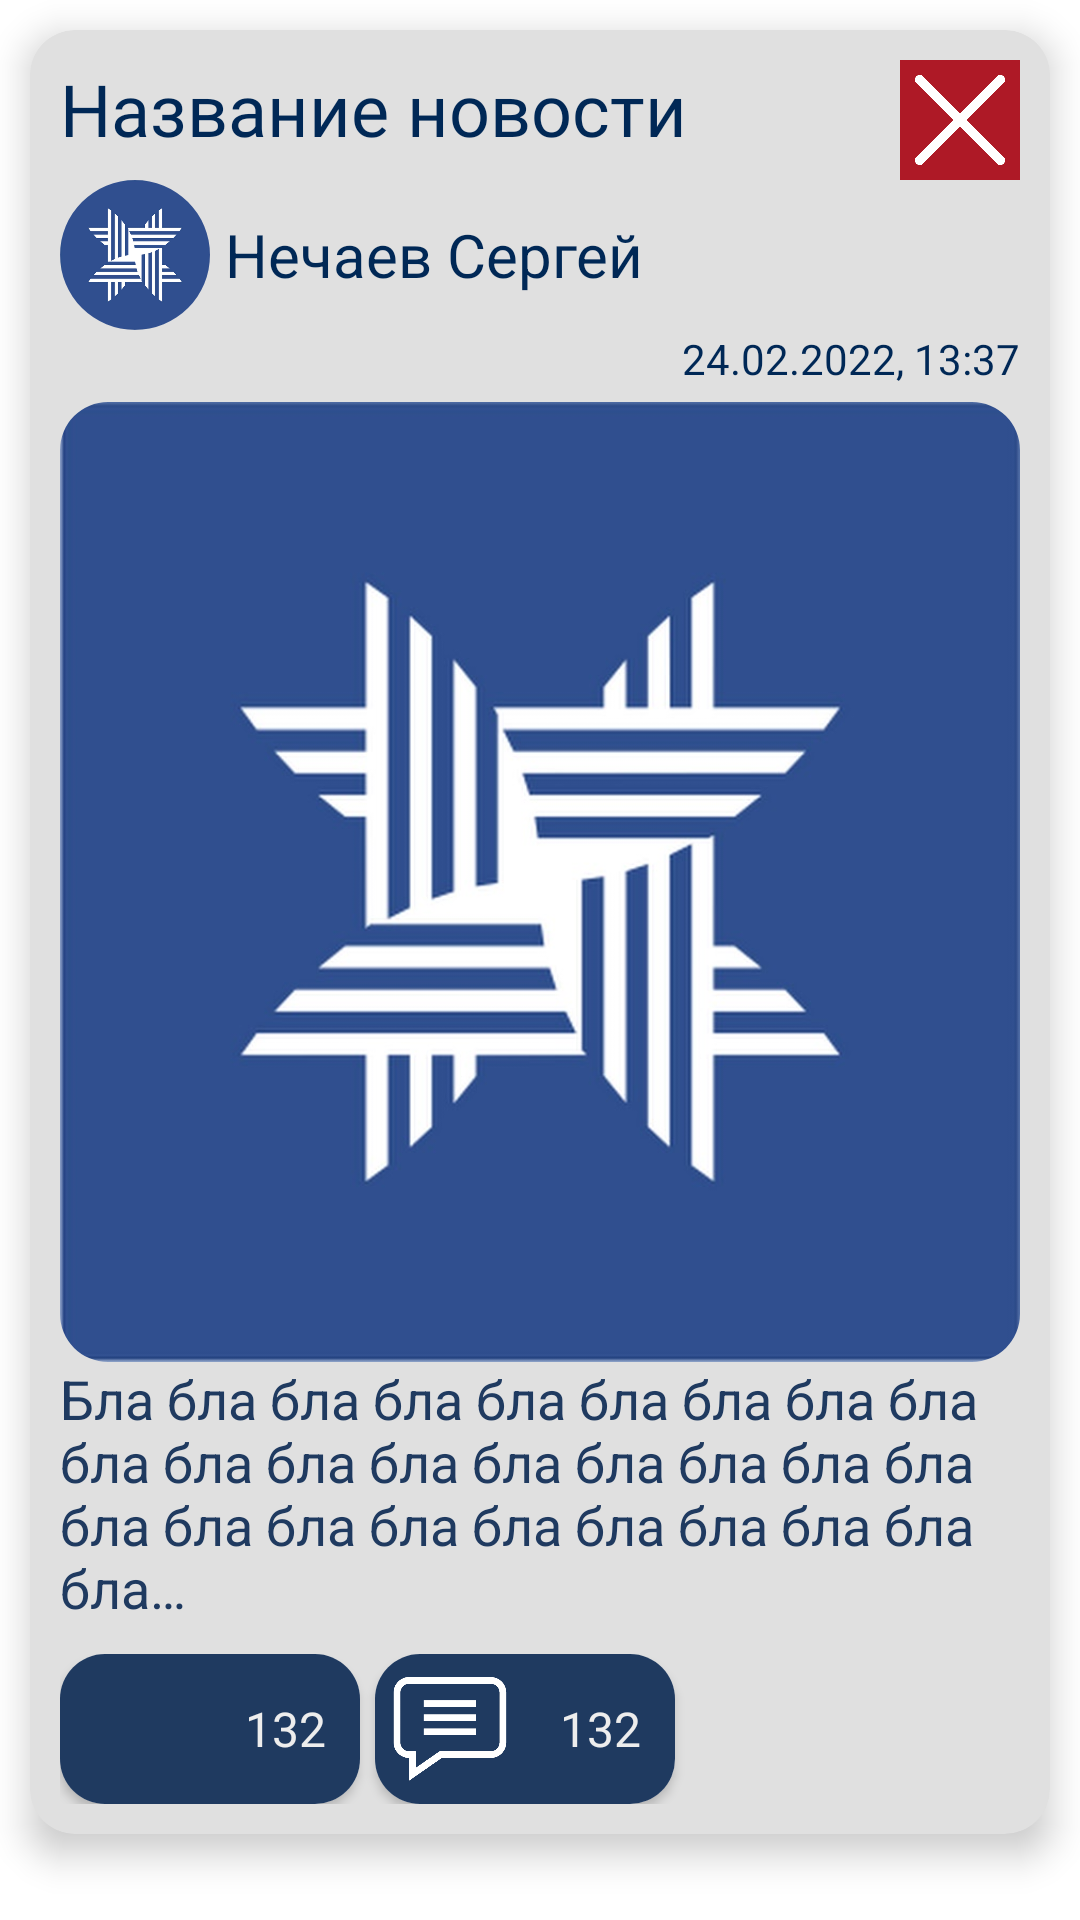

Icons on this 1080×1920 Android screen, each with its box as (x1, y1, x2, y2):
comment: (375, 1654, 525, 1804)
remove: (900, 60, 1020, 180)
